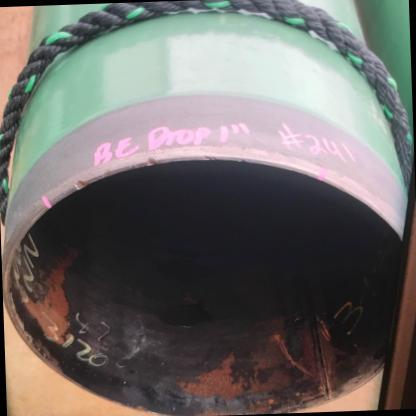Bevel: (140, 151, 166, 172), (199, 148, 224, 164), (71, 175, 93, 193), (239, 151, 258, 169)
